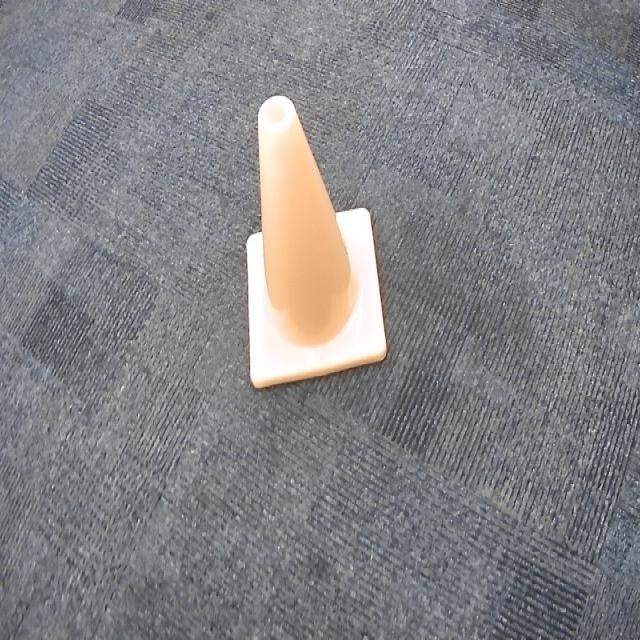cone: (242, 89, 390, 394)
